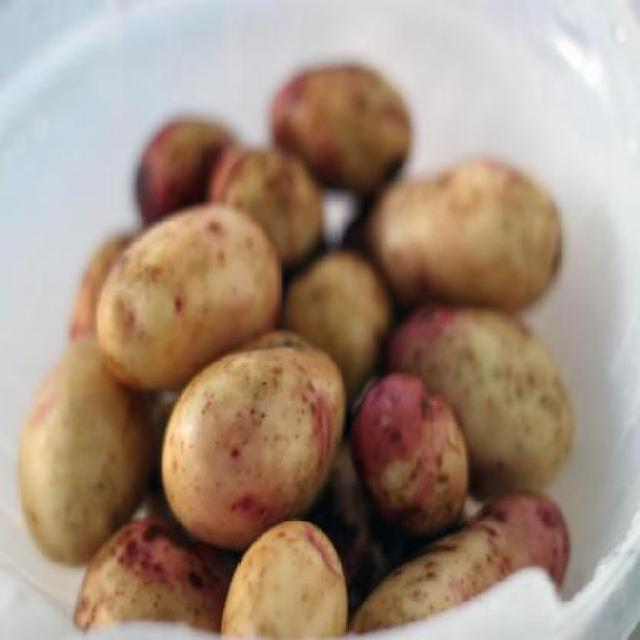Potato: (13, 63, 576, 640), (96, 198, 281, 392)
